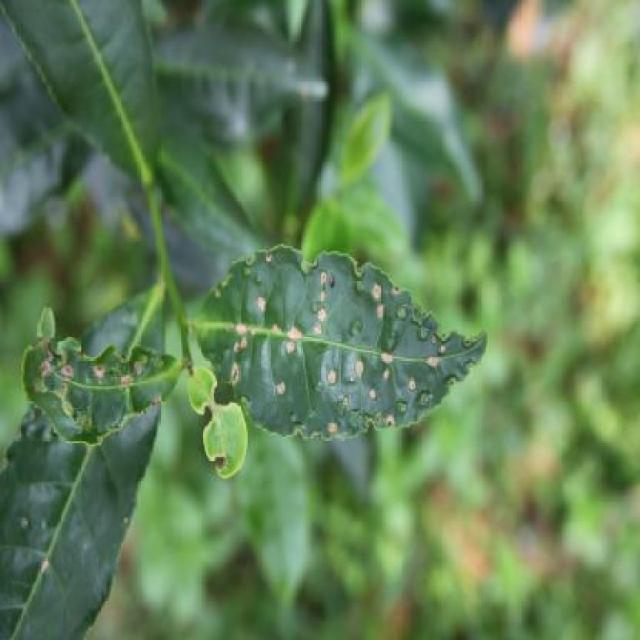Tea Mosquito bug infested leaf: (194, 241, 495, 437), (20, 312, 182, 446)
